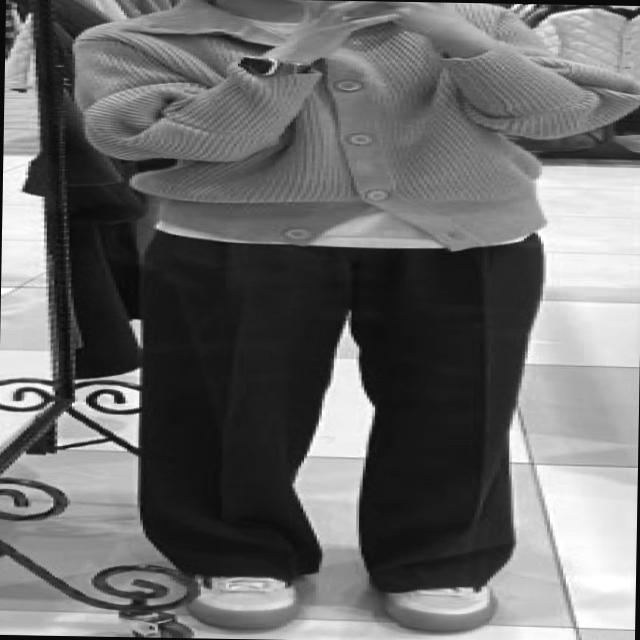cardigan: (4, 0, 618, 257)
slacks: (126, 224, 540, 595)
